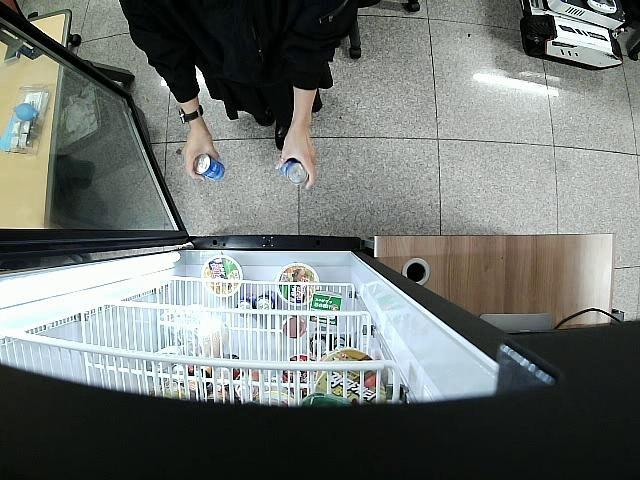15_letsbe: (193, 156, 226, 184), (280, 158, 309, 187)
